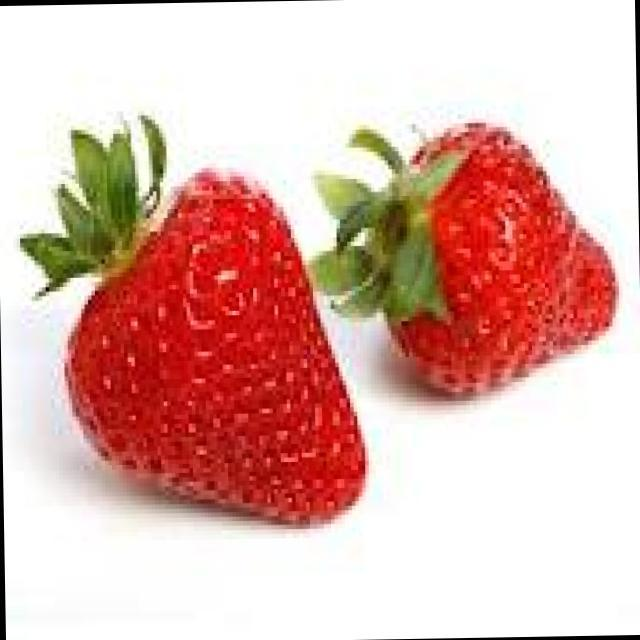Strawberry: (3, 75, 640, 538)
